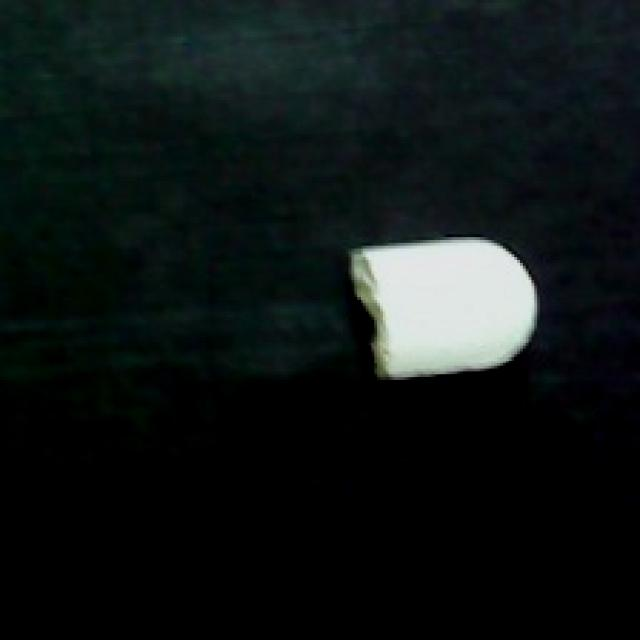defected: (341, 233, 543, 385)
